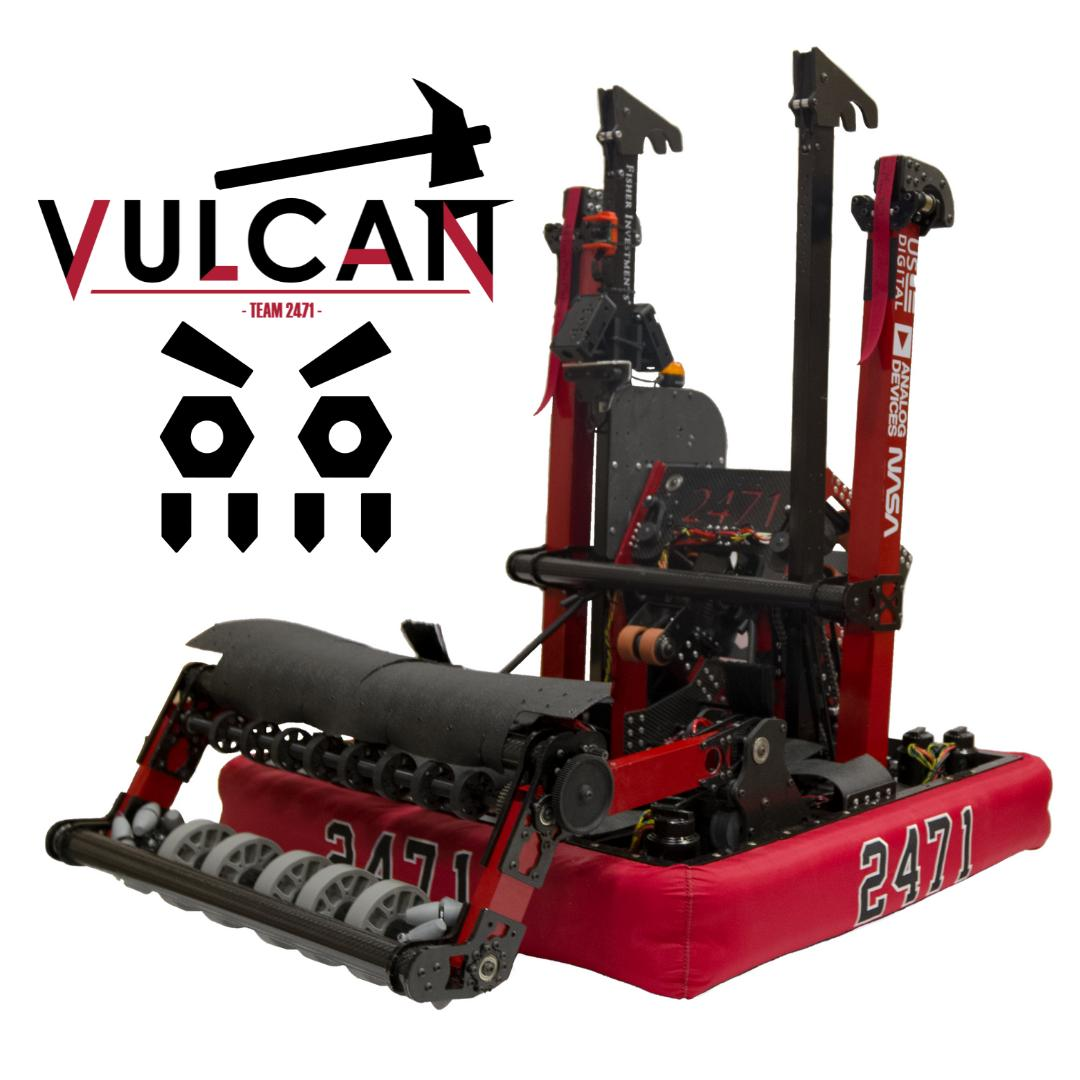robot: (33, 38, 1060, 1017)
